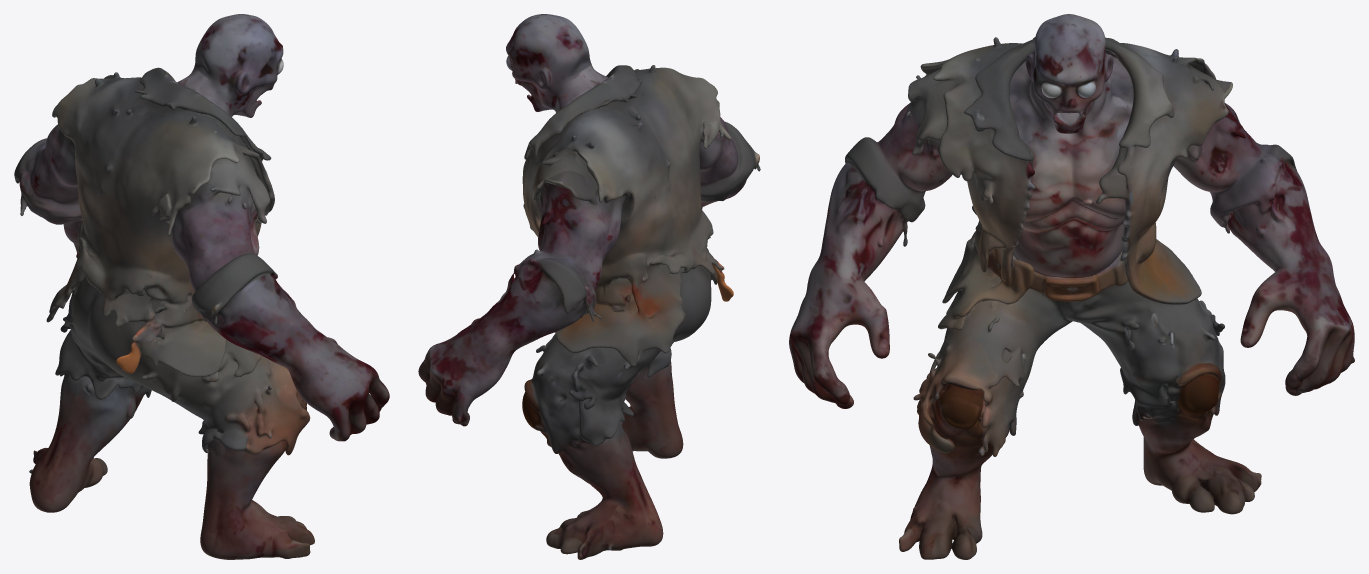
Rendered from zombie-heavy.glb.
The picture shows the model from 3 angles, left to right: view 1: azimuth 30°, elevation 25°; view 2: azimuth 150°, elevation 25°; view 3: azimuth 270°, elevation 25°; orthographic projection. The views are drawn at different scales.
Parts seen in each view (by area): view 1: tripo_node_afdd5109-7ded-4f9a-b053-26619a305d11; view 2: tripo_node_afdd5109-7ded-4f9a-b053-26619a305d11; view 3: tripo_node_afdd5109-7ded-4f9a-b053-26619a305d11.
Part boxes in pixels (left/top/right/bottom): tripo_node_afdd5109-7ded-4f9a-b053-26619a305d11: left=14, top=14, right=389, bottom=559; tripo_node_afdd5109-7ded-4f9a-b053-26619a305d11: left=418, top=14, right=760, bottom=559; tripo_node_afdd5109-7ded-4f9a-b053-26619a305d11: left=789, top=14, right=1354, bottom=559.
Size of the model in its own units: 0.4362 by 1 by 0.945.
1 material, 1 textured.
